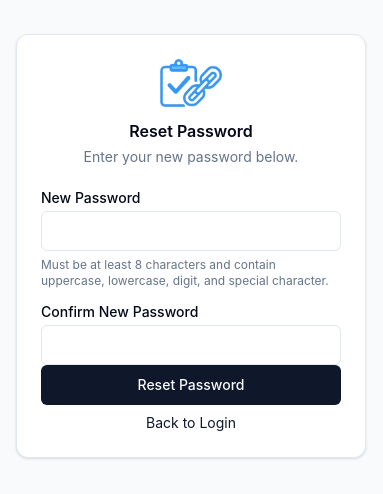
Test: ResetPassword › says in the card that the passwords differ and sends nothing
Type "Battery-Staple-2" into the password field labelled "New Password" at (191, 231), box [41,211,341,251]
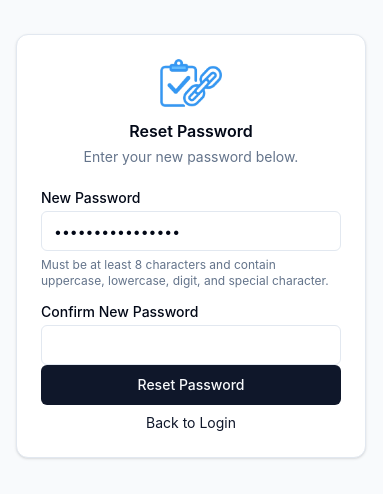
Type "Battery-Staple-3" into the password field labelled "Confirm New Password" at (191, 345), box [41,325,341,365]
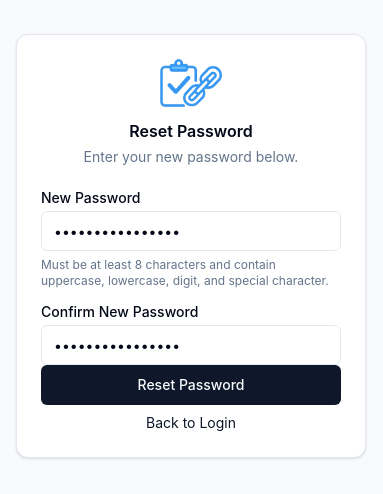
Click the button "Reset Password" at (191, 385), box [41,365,341,405]
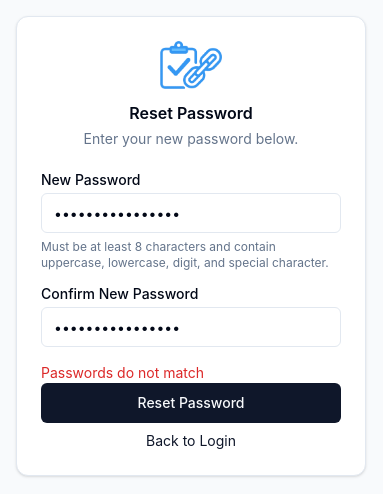
Expected: the message reads "Passwords do not match", [41,364,204,381]
